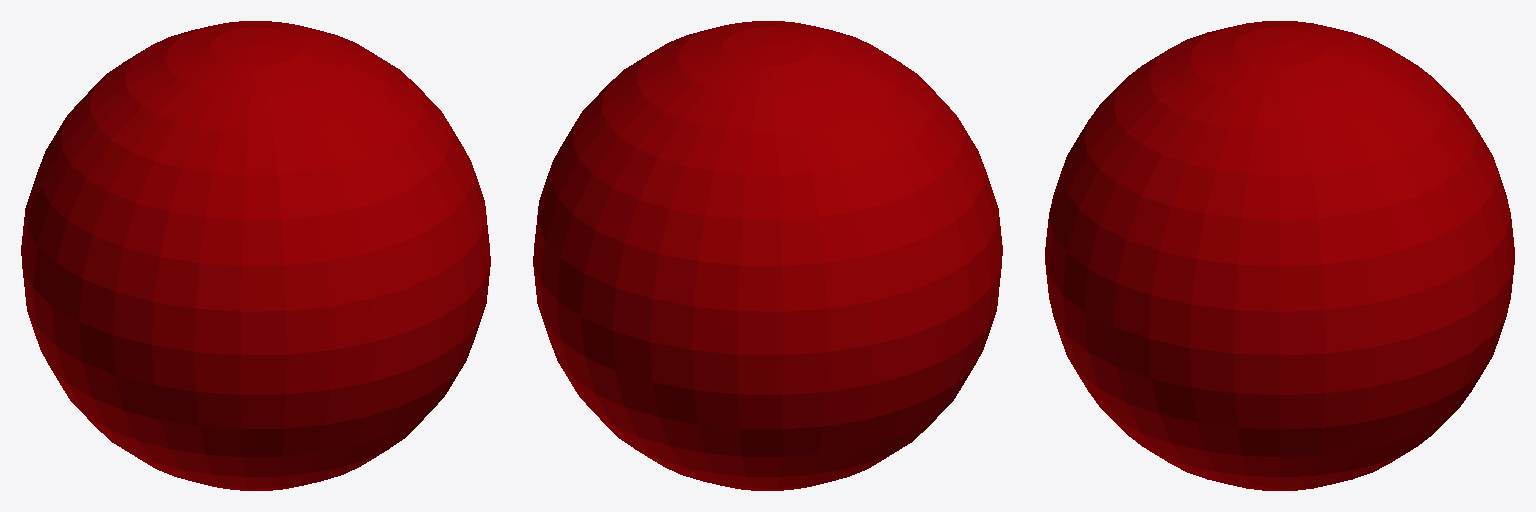
The model's file is red_sphere.obj.
3 renders of one model, left to right at view 1: azimuth 30°, elevation 25°; view 2: azimuth 150°, elevation 25°; view 3: azimuth 270°, elevation 25°, orthographic.
Bounding box in the file's own units: 1 × 1 × 1.